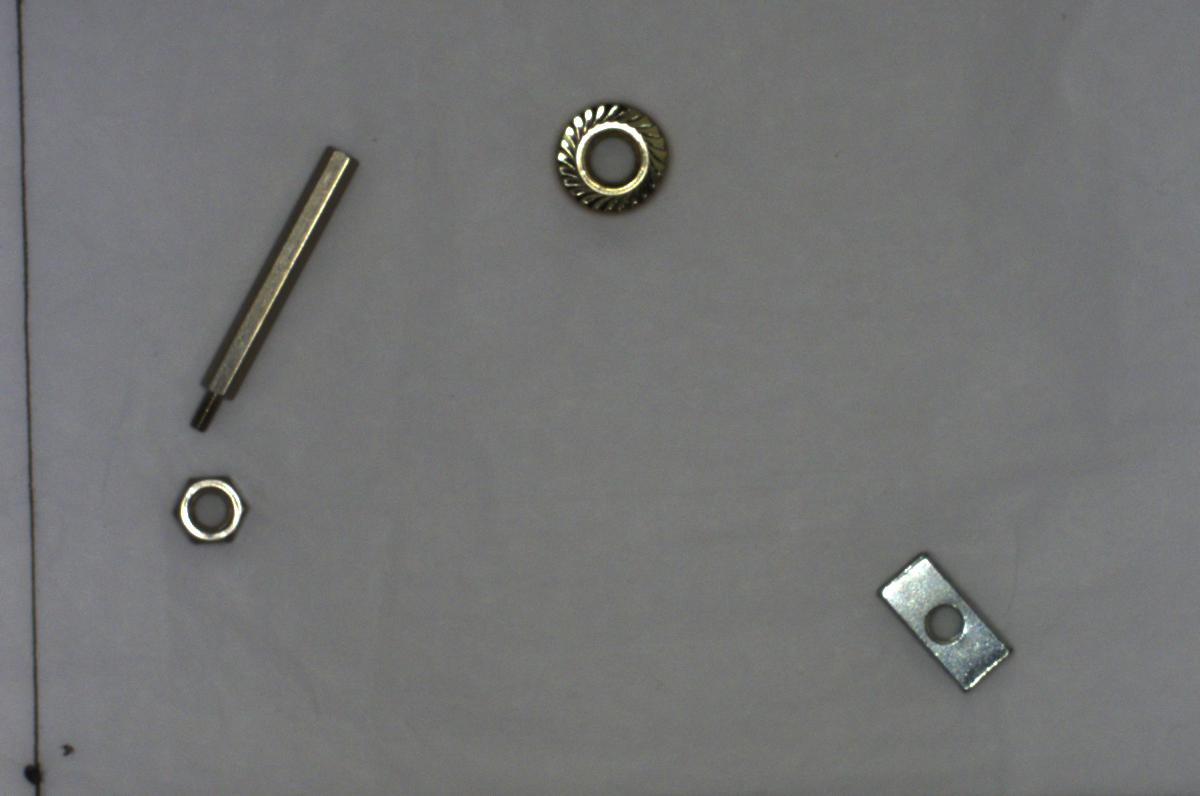Flange nut: (541, 89, 678, 220)
Hexagon nut: (162, 463, 255, 550)
Hexagonal steel column: (182, 138, 365, 439)
Rectangular nut: (865, 541, 1021, 700)
